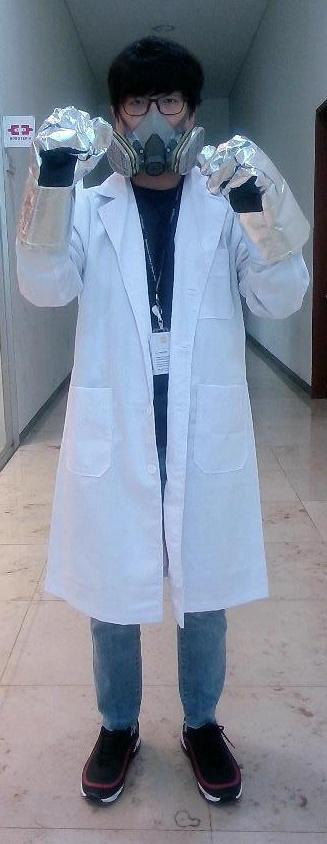lab_coat: (59, 212, 247, 610)
